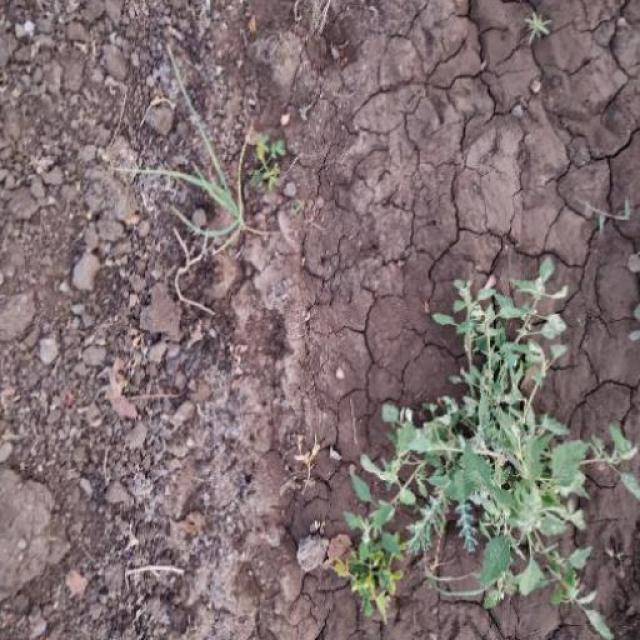weed: (345, 277, 636, 638), (107, 41, 325, 306)
